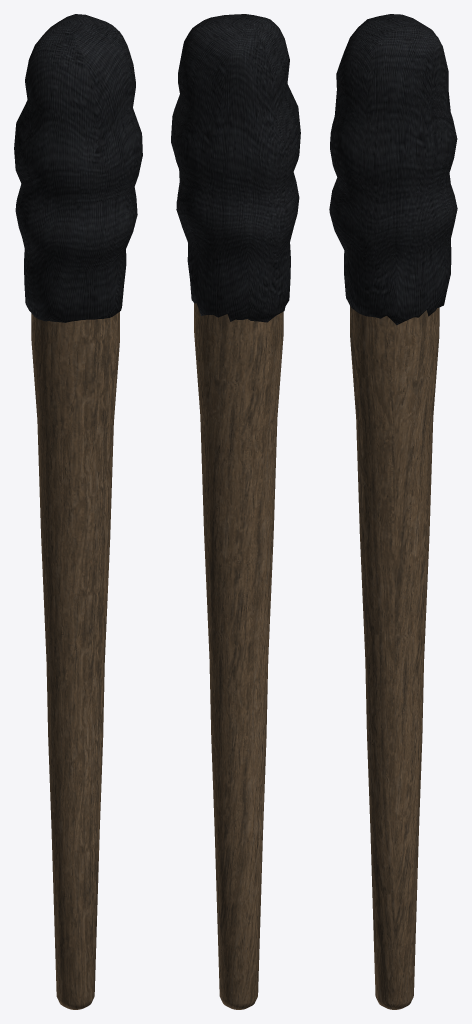
Rendered from torch.gltf.
3 views of the same model, side by side, from view 1: azimuth 30°, elevation 25°; view 2: azimuth 210°, elevation 25°; view 3: azimuth 270°, elevation 25° (orthographic).
Parts seen in each view (by area): view 1: Cylinder.002; view 2: Cylinder.002; view 3: Cylinder.002.
Part boxes in pixels (<box>): Cylinder.002: <box>14,14,142,1009</box>; Cylinder.002: <box>171,14,300,1009</box>; Cylinder.002: <box>329,14,457,1009</box>.
Size of the model in its own units: 0.0689 by 0.5731 by 0.0676.
1 material, 1 textured.
